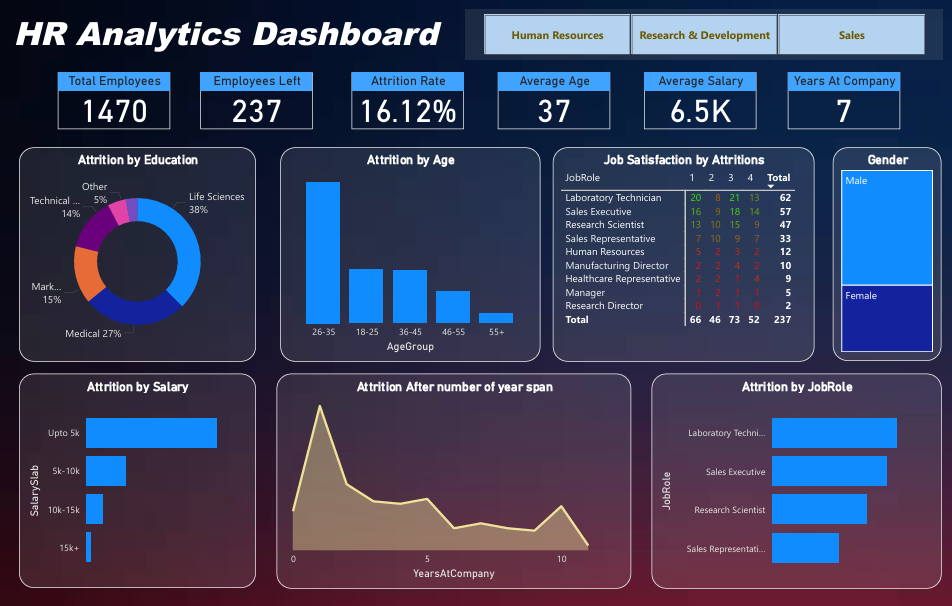

The page's visual inventory and layout, read from the dashboard file:
{"tool":"powerbi","page":{"name":"Page 1","canvas":[1280,800],"ordinal":0},"visuals":[{"type":"card","title":"Total Employees","fields":{"Values":["CountNonNull(HR_Analytics.EmpID)"]},"box":[79,94.4,150,75.7],"z":0},{"type":"card","title":"Employees Left","fields":{"Values":["HR_Analytics.Attrition Count"]},"box":[269,94.4,150,75.7],"z":1000},{"type":"card","title":"Attrition Rate","fields":{"Values":["HR_Analytics.Attrition Rate"]},"box":[470.4,94.4,150,75.7],"z":2000},{"type":"card","title":"Average Age","fields":{"Values":["Avg(HR_Analytics.Age)"]},"box":[664.7,94.4,150,75.7],"z":3000},{"type":"card","title":"Average Salary","fields":{"Values":["Avg(HR_Analytics.MonthlyIncome)"]},"box":[860.4,95.8,150,75.7],"z":4000},{"type":"card","title":"Years At Company","fields":{"Values":["Avg(HR_Analytics.YearsAtCompany)"]},"box":[1051.8,95.8,150,75.7],"z":5000},{"type":"donutChart","title":"Attrition by Education","fields":{"Category":["HR_Analytics.EducationField"],"Y":["HR_Analytics.Attrition Count"]},"box":[26.5,195,315.7,285.7],"z":6000},{"type":"columnChart","title":"Attrition by Age","fields":{"Category":["HR_Analytics.AgeGroup"],"Y":["HR_Analytics.Attrition Count"]},"box":[375,195,347.1,285.7],"z":7000},{"type":"pivotTable","title":"Job Satisfaction by Attritions","fields":{"Rows":["HR_Analytics.JobRole"],"Values":["HR_Analytics.Attrition Count"],"Columns":["HR_Analytics.JobSatisfaction"]},"box":[737.9,195,348.6,285.7],"z":8000},{"type":"barChart","title":"Attrition by Salary","fields":{"Category":["HR_Analytics.SalarySlab"],"Y":["HR_Analytics.Attrition Count"]},"box":[26.5,496.5,315.7,285.7],"z":9000},{"type":"barChart","title":"Attrition by JobRole","fields":{"Category":["HR_Analytics.JobRole"],"Y":["HR_Analytics.Attrition Count"]},"box":[869.3,496,386.7,286.7],"z":10000},{"type":"areaChart","title":"Attrition After number of year span","fields":{"Category":["HR_Analytics.YearsAtCompany"],"Y":["HR_Analytics.Attrition Count"]},"box":[369.3,496,473.3,286.7],"z":11000},{"type":"treemap","title":"Gender","fields":{"Values":["HR_Analytics.Attrition Count"],"Group":["HR_Analytics.Gender"]},"box":[1111,194.3,145,285],"z":12000},{"type":"slicer","fields":{"Values":["HR_Analytics.Department"]},"box":[621.7,11.7,636.7,66.7],"z":13000},{"type":"textbox","box":[51.7,6.7,568.3,73.3],"z":14000}]}

Visuals, with their boxes in screenshot pixels (x1, y1, x2, y2), scaled from the page's 1280x800 canvas onto the 952x606 screenshot:
"Total Employees" card: locate(59, 72, 170, 129)
"Employees Left" card: locate(200, 72, 312, 129)
"Attrition Rate" card: locate(350, 72, 461, 129)
"Average Age" card: locate(494, 72, 606, 129)
"Average Salary" card: locate(640, 73, 751, 130)
"Years At Company" card: locate(782, 73, 894, 130)
"Attrition by Education" donutChart: locate(20, 148, 255, 364)
"Attrition by Age" columnChart: locate(279, 148, 537, 364)
"Job Satisfaction by Attritions" pivotTable: locate(549, 148, 808, 364)
"Attrition by Salary" barChart: locate(20, 376, 255, 593)
"Attrition by JobRole" barChart: locate(647, 376, 934, 593)
"Attrition After number of year span" areaChart: locate(275, 376, 627, 593)
"Gender" treemap: locate(826, 147, 934, 363)
slicer - HR_Analytics.Department: locate(462, 9, 936, 59)
textbox: locate(38, 5, 461, 61)
